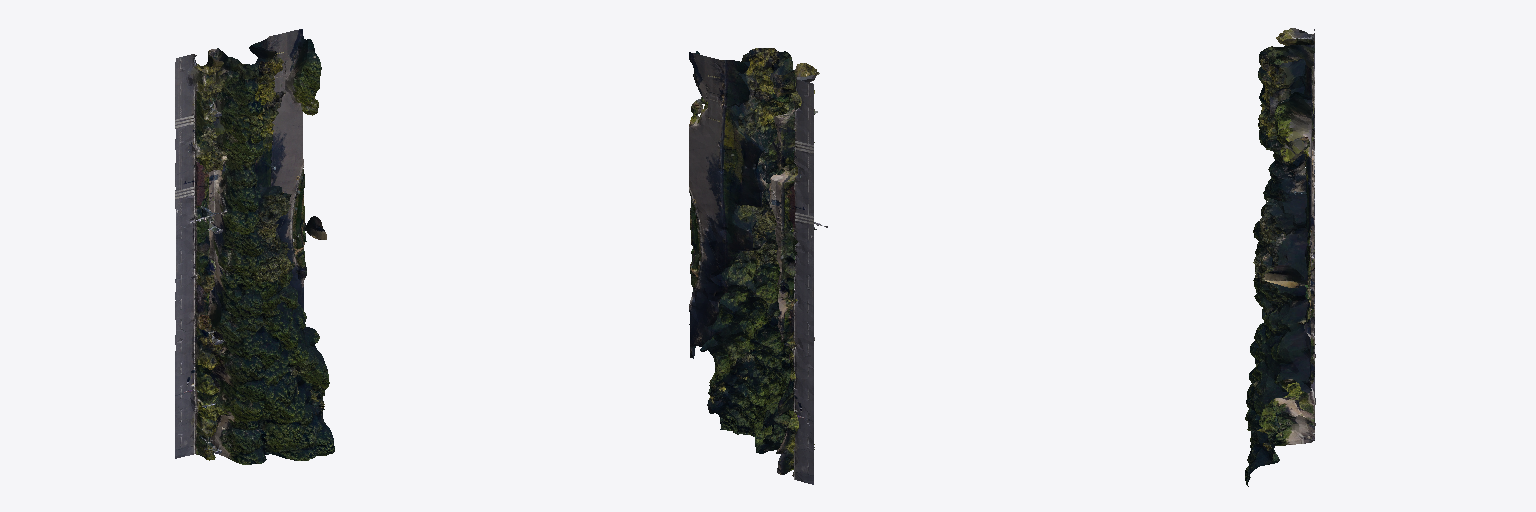
The picture shows the model from 3 angles: view 1: azimuth 30°, elevation 25°; view 2: azimuth 150°, elevation 25°; view 3: azimuth 270°, elevation 25°; orthographic projection.
Size of the model in its own units: 33.11 by 100 by 16.16.
1 materials, 1 textured.